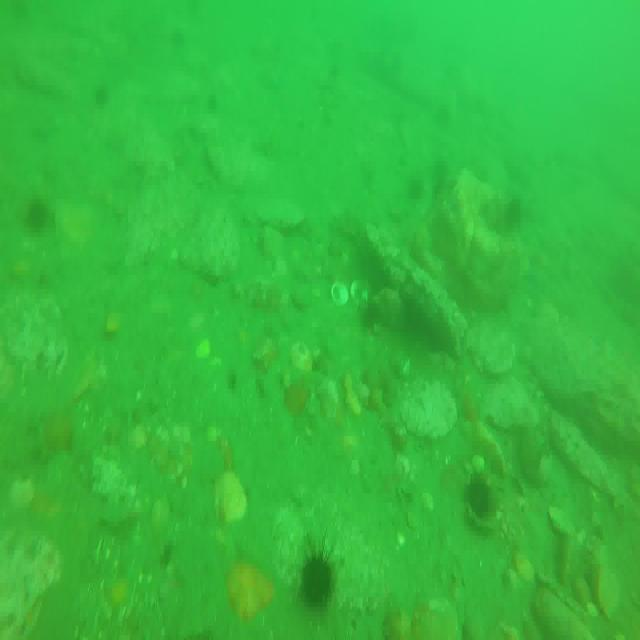echinus: (303, 548, 335, 606), (463, 474, 493, 522), (25, 196, 48, 232)
scallop: (213, 472, 248, 526), (290, 338, 314, 376), (349, 276, 373, 312), (331, 273, 348, 317)
